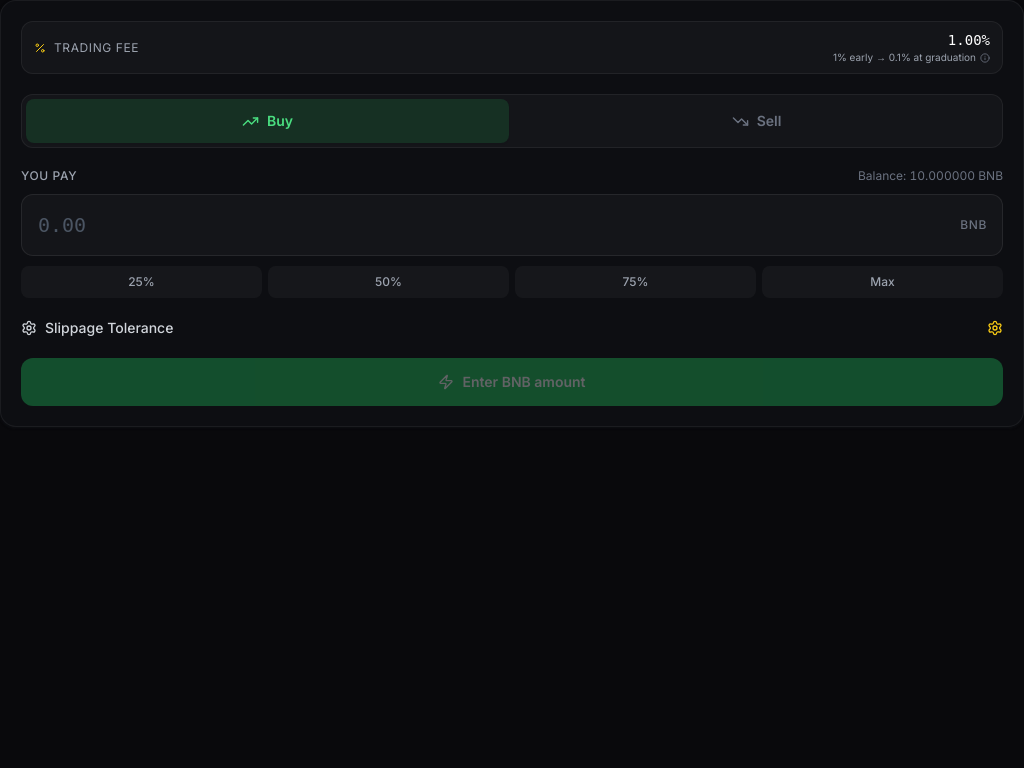
Test: TradingInterface › Slippage Settings › should show warning for high slippage (>5%)
Click the 7th button.
click(995, 328)  # box [987,320,1003,336]
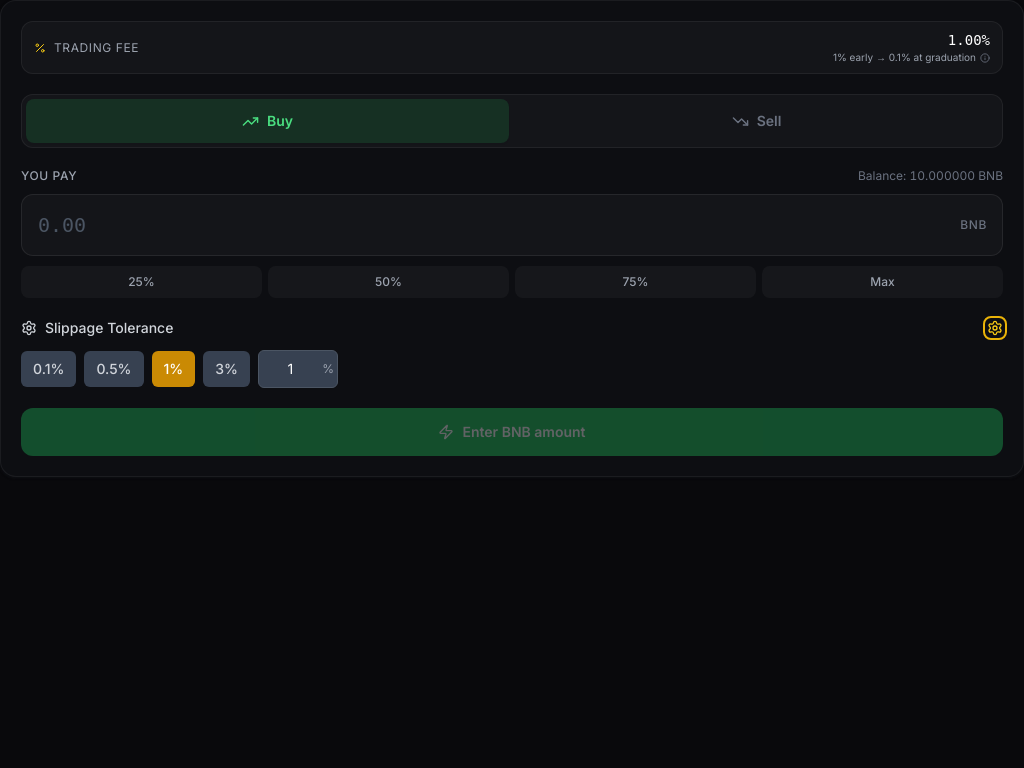
Replace the text in the 2nd number field with "6" at coordinates (298, 369), box [258,350,338,388]
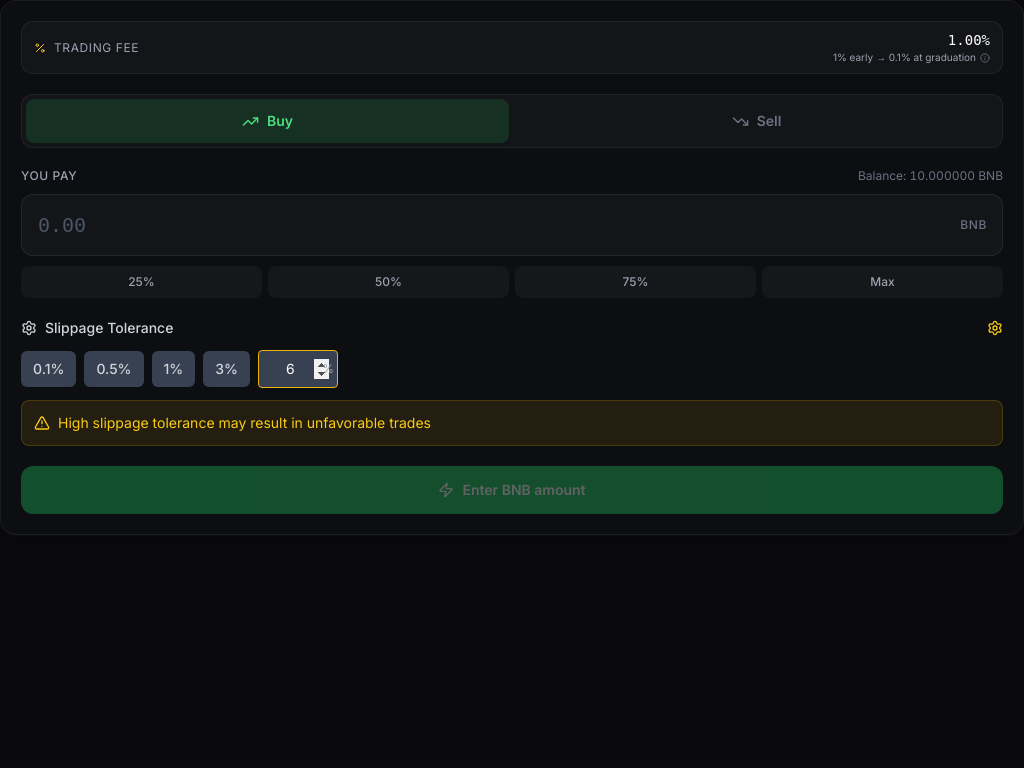
Check: the text "High slippage tolerance may result in unfavorable trades" is shown, box [58,413,431,433]
